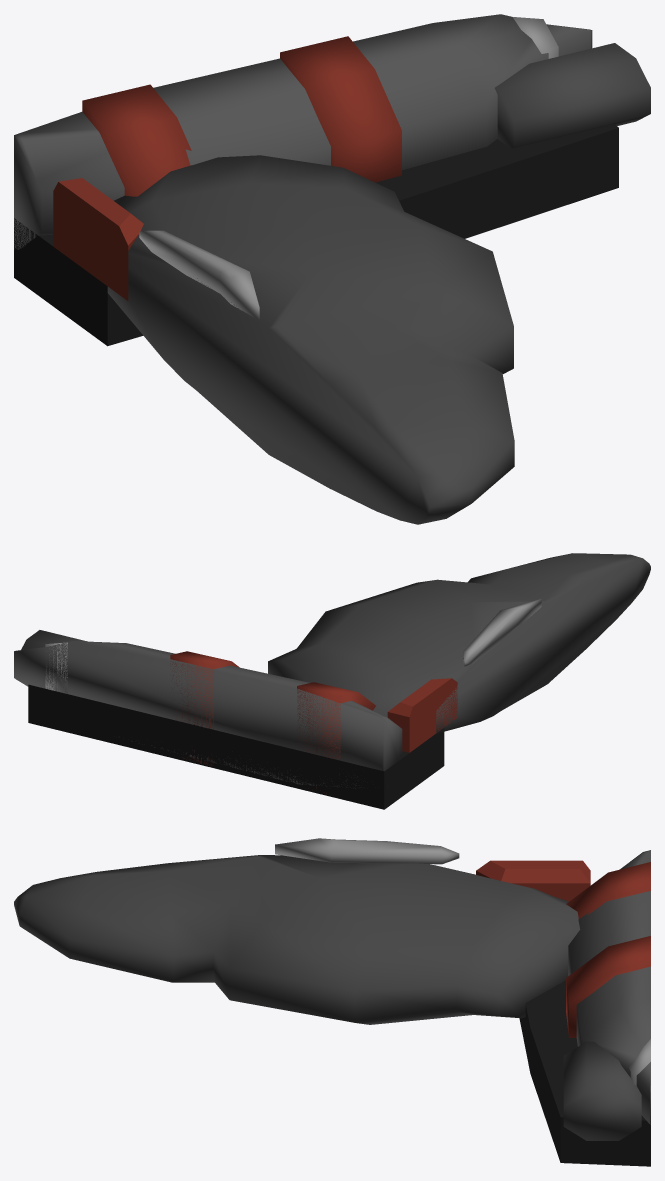
Rendered from newsh-caret-127.glb.
The picture shows the model from 3 angles, top to bottom: view 1: azimuth 30°, elevation 25°; view 2: azimuth 150°, elevation 25°; view 3: azimuth 270°, elevation 25°; orthographic projection. The views are drawn at different scales.
Visible parts, largest first — view 1: newsh-caret-127; view 2: newsh-caret-127; view 3: newsh-caret-127.
Boxes of the visible parts, x1,y1,x2,y2 form: newsh-caret-127: [14, 14, 650, 524]; newsh-caret-127: [14, 553, 650, 809]; newsh-caret-127: [14, 838, 650, 1166].
Size of the model in its own units: 1.42 by 0.3746 by 1.76.
